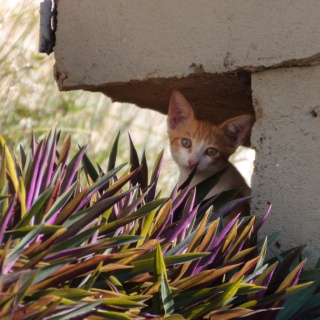Cat: (168, 87, 255, 230)
